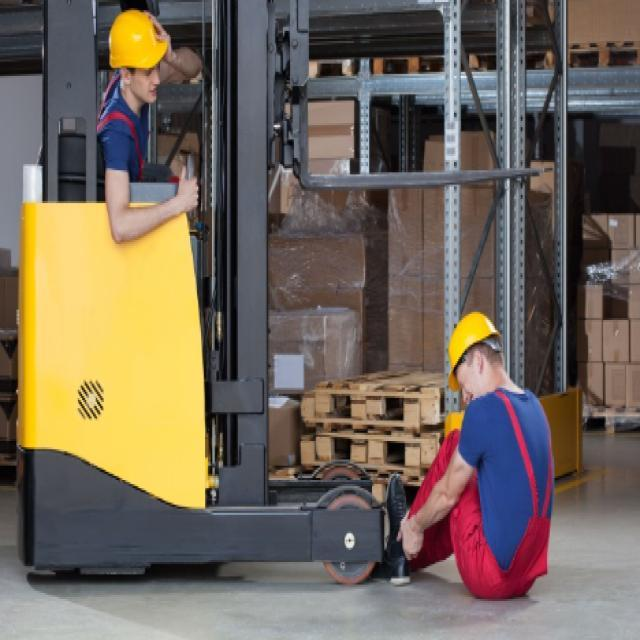hard_hat: (107, 5, 174, 107), (442, 309, 508, 401)
